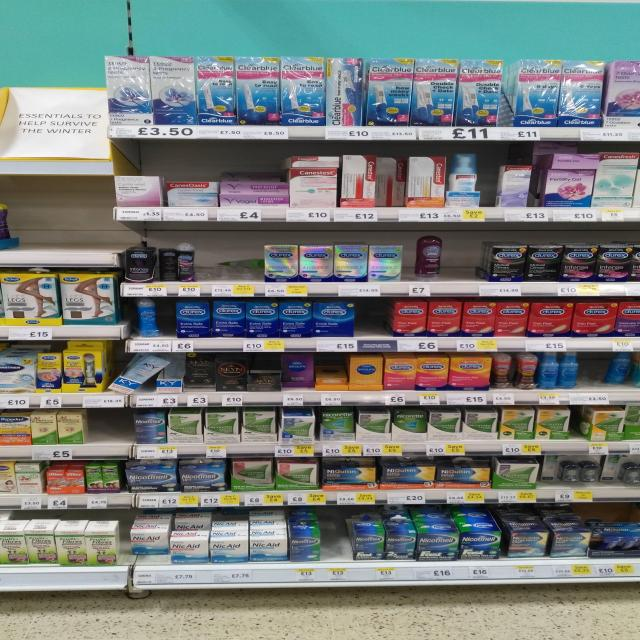empty: (18, 185, 112, 252), (195, 240, 263, 282), (444, 232, 482, 283), (85, 407, 132, 444), (355, 298, 390, 338), (321, 512, 349, 559), (579, 351, 609, 388)
